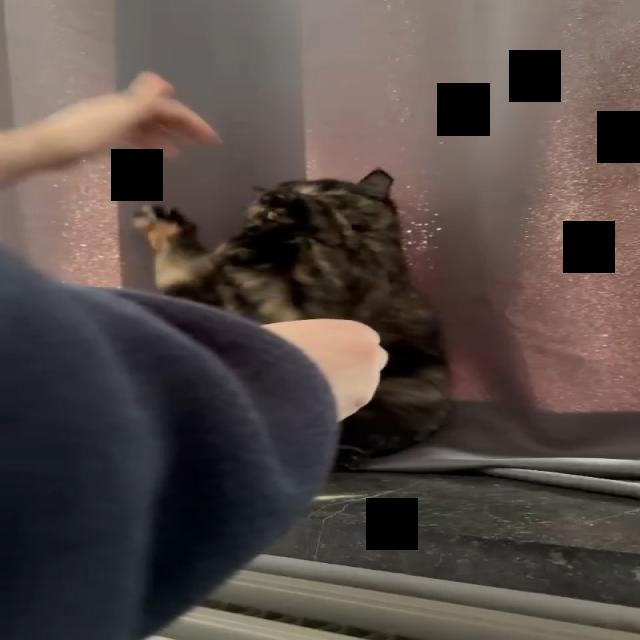authorized: (131, 167, 452, 469)
